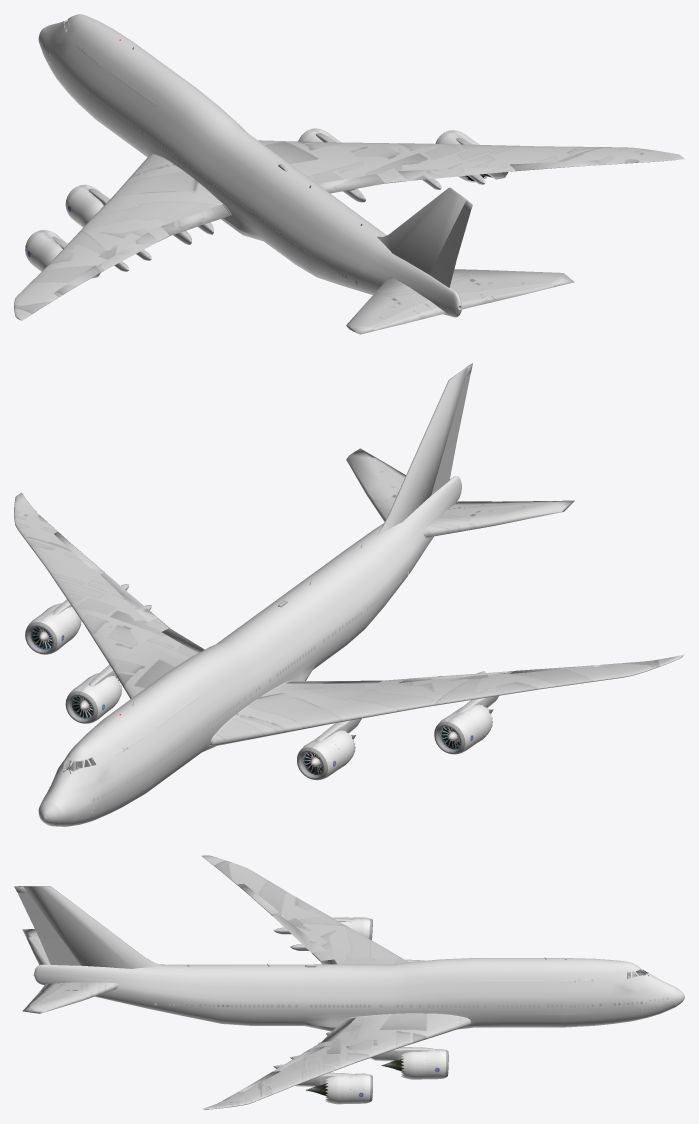
3 views of the same model, one above another, from view 1: azimuth 30°, elevation 25°; view 2: azimuth 150°, elevation 25°; view 3: azimuth 270°, elevation 25° (orthographic). The views are drawn at different scales.
Parts seen in each view (by area): view 1: fuselage_1_002, wing_001, tail_section, wing, fuselage_1_001, fuselage_in_001, vstab, fuselage_in_002, hstab_R, hstab_L, rudder_1, elevator_right (+12 smaller); view 2: fuselage_1_002, wing_001, tail_section, fuselage_1_001, wing, fuselage_in_001, vstab, hstab_L, fuselage_in_002, hstab_R, fuselage_in, rudder_1 (+1 smaller); view 3: fuselage_1_002, tail_section, wing_001, fuselage_1_001, vstab, wing, fuselage_in_001, rudder_1, hstab_R, fuselage_in_002, cabinlighting_001, fuselage_in (+6 smaller).
Boxes of the visible parts, box(x1,y1,x2,y2) form: fuselage_1_002: box(104, 51, 313, 247); wing_001: box(14, 142, 684, 320); tail_section: box(267, 179, 461, 317); wing: box(114, 140, 375, 226); fuselage_1_001: box(38, 14, 147, 129); fuselage_in_001: box(105, 51, 308, 243); vstab: box(377, 187, 472, 274); fuselage_in_002: box(267, 179, 460, 315); hstab_R: box(450, 269, 574, 293); hstab_L: box(346, 276, 427, 334); rudder_1: box(429, 206, 470, 287); elevator_right: box(458, 282, 554, 309); fuselage_1_002: box(124, 593, 329, 781); wing_001: box(14, 492, 684, 723); tail_section: box(282, 476, 461, 661); fuselage_1_001: box(41, 703, 167, 826); wing: box(113, 631, 375, 746); fuselage_in_001: box(127, 593, 329, 779); vstab: box(377, 363, 472, 535); hstab_L: box(423, 500, 574, 537); fuselage_in_002: box(284, 476, 459, 659); hstab_R: box(346, 448, 401, 521); fuselage_in: box(51, 704, 167, 822); rudder_1: box(431, 373, 470, 495); fuselage_1_002: box(287, 958, 541, 1027); tail_section: box(34, 964, 287, 1025); wing_001: box(201, 855, 407, 1109); fuselage_1_001: box(541, 958, 675, 1027); vstab: box(14, 886, 163, 968); wing: box(334, 957, 471, 1045); fuselage_in_001: box(287, 958, 541, 1027); rudder_1: box(17, 892, 80, 965); hstab_R: box(22, 982, 118, 1013); fuselage_in_002: box(35, 964, 287, 1025); cabinlighting_001: box(154, 979, 668, 1007); fuselage_in: box(541, 958, 674, 1027).
Size of the model in its own units: 68.4 by 76.55 by 18.57.
